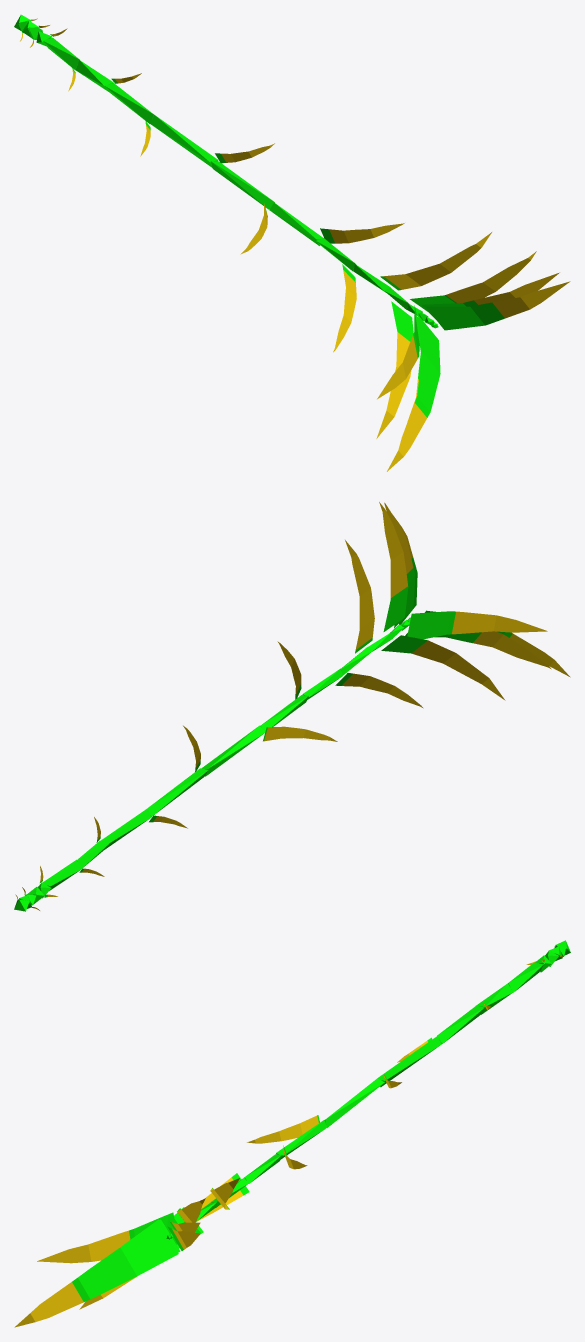
The model's file is usm_10_Beer_2018-09-25_11.obj.
3 views of the same model, one above another, from view 1: azimuth 30°, elevation 25°; view 2: azimuth 150°, elevation 25°; view 3: azimuth 330°, elevation 25° (orthographic). The views are drawn at different scales.
Parts seen in each view (by area): view 1: vid_42, vid_40, vid_10000028, vid_10000032, vid_10000040, vid_10000030, vid_10000042, vid_19, vid_21, vid_10000024, vid_10000026, vid_10000034 (+3 smaller); view 2: vid_10000034, vid_10000030, vid_10000028, vid_10000032, vid_34, vid_10000038, vid_10000026, vid_19, vid_21, vid_10000022, vid_32, vid_17 (+1 smaller); view 3: vid_42, vid_10000034, vid_10000042, vid_19, vid_10000022, vid_21, vid_17, vid_23.
Part boxes in pixels (box(x1,y1,x2,y2)): vid_42: box(415, 315, 440, 417); vid_40: box(426, 302, 504, 330); vid_10000028: box(384, 232, 491, 289); vid_10000032: box(446, 251, 536, 303); vid_10000040: box(492, 281, 570, 318); vid_10000030: box(376, 332, 411, 438); vid_10000042: box(387, 403, 426, 471); vid_19: box(150, 115, 218, 167); vid_21: box(210, 161, 274, 209); vid_10000024: box(329, 223, 404, 243); vid_10000026: box(333, 270, 356, 352); vid_10000034: box(377, 335, 417, 399); vid_10000034: box(452, 611, 547, 634); vid_10000030: box(411, 640, 505, 700); vid_10000028: box(345, 540, 374, 649); vid_10000032: box(379, 502, 407, 597); vid_34: box(407, 611, 455, 639); vid_10000038: box(473, 631, 551, 669); vid_10000026: box(342, 673, 423, 708); vid_19: box(147, 768, 208, 816); vid_21: box(201, 725, 264, 776); vid_10000022: box(264, 726, 337, 741); vid_32: box(383, 586, 408, 631); vid_17: box(101, 808, 151, 849); vid_42: box(72, 1219, 178, 1301); vid_10000034: box(37, 1230, 130, 1263); vid_10000042: box(14, 1282, 83, 1327); vid_19: box(377, 1036, 441, 1087); vid_10000022: box(247, 1115, 318, 1143); vid_21: box(324, 1078, 384, 1127); vid_17: box(437, 1006, 484, 1043); vid_23: box(276, 1120, 327, 1159).
Bounding box in the file's own units: 65.83 × 53.97 × 283.
